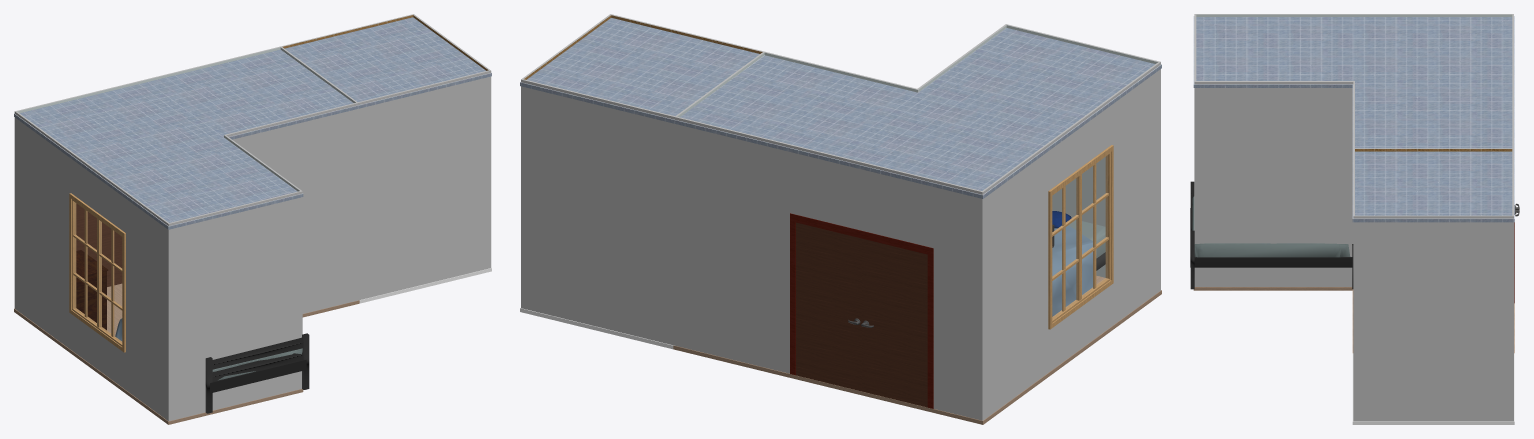
Rendered from ProcTHOR-Train-150.glb.
3 views of the same model, side by side, from view 1: azimuth 30°, elevation 25°; view 2: azimuth 150°, elevation 25°; view 3: azimuth 270°, elevation 25° (orthographic). The views are drawn at different scales.
Visible parts, largest first — view 1: Ceiling#room|2|c, WallInside#wall|exterior|0.00|4.26|2.13|4.26, WallInside#wall|exterior|6.39|2.13|6.39|6.39, WallInside#wall|exterior|4.26|6.39|6.39|6.39, WallInside#wall|exterior|2.13|4.26|4.26|4.26, Ceiling#room|3|c, Bed_19, Window_Fixed_60x72, Floor#room|2|f, Doorway_Door_1a, Dresser_318_2, WallInside#wall|2|2.13|2.13|6.39|2.13 (+1 smaller); view 2: WallInside#wall|exterior|2.13|2.13|6.39|2.13, Ceiling#room|2|c, WallInside#wall|exterior|0.00|2.13|2.13|2.13, WallInside#wall|exterior|6.39|2.13|6.39|6.39, Ceiling#room|3|c, Doorway_Door_1b, Doorway_Door_1a, Window_Fixed_60x72, Doorway_Double_1, Bed_19, WallInside#wall|2|4.26|6.39|6.39|6.39, Floor#room|2|f (+1 smaller); view 3: WallInside#wall|exterior|0.00|2.13|0.00|4.26, Ceiling#room|2|c, WallInside#wall|exterior|4.26|4.26|4.26|6.39, Ceiling#room|3|c, Bed_19, WallInside#wall|2|6.39|2.13|6.39|6.39, Floor#room|3|f, Floor#room|2|f, WallInside#wall|3|2.13|2.13|2.13|4.26, WallInside#wall|exterior|6.39|2.13|6.39|6.39.
Boxes of the visible parts, x1=… form: Ceiling#room|2|c: x1=14, y1=49, x2=359, y2=229; WallInside#wall|exterior|0.00|4.26|2.13|4.26: x1=357, y1=70, x2=490, y2=300; WallInside#wall|exterior|6.39|2.13|6.39|6.39: x1=14, y1=111, x2=168, y2=420; WallInside#wall|exterior|4.26|6.39|6.39|6.39: x1=168, y1=191, x2=302, y2=421; WallInside#wall|exterior|2.13|4.26|4.26|4.26: x1=225, y1=103, x2=358, y2=313; Ceiling#room|3|c: x1=285, y1=17, x2=491, y2=108; Bed_19: x1=115, y1=318, x2=309, y2=413; Window_Fixed_60x72: x1=69, y1=193, x2=125, y2=352; Floor#room|2|f: x1=14, y1=283, x2=359, y2=424; Doorway_Door_1a: x1=76, y1=203, x2=119, y2=286; Dresser_318_2: x1=76, y1=250, x2=108, y2=330; WallInside#wall|2|2.13|2.13|6.39|2.13: x1=16, y1=46, x2=281, y2=113; WallInside#wall|exterior|2.13|2.13|6.39|2.13: x1=674, y1=117, x2=982, y2=420; Ceiling#room|2|c: x1=673, y1=28, x2=1161, y2=198; WallInside#wall|exterior|0.00|2.13|2.13|2.13: x1=521, y1=79, x2=675, y2=345; WallInside#wall|exterior|6.39|2.13|6.39|6.39: x1=983, y1=62, x2=1160, y2=420; Ceiling#room|3|c: x1=520, y1=18, x2=764, y2=123; Doorway_Door_1b: x1=796, y1=222, x2=861, y2=391; Doorway_Door_1a: x1=862, y1=238, x2=927, y2=407; Window_Fixed_60x72: x1=1048, y1=145, x2=1113, y2=329; Doorway_Double_1: x1=790, y1=213, x2=933, y2=408; Bed_19: x1=1052, y1=220, x2=1105, y2=316; WallInside#wall|2|4.26|6.39|6.39|6.39: x1=1005, y1=24, x2=1158, y2=277; Floor#room|2|f: x1=673, y1=275, x2=1161, y2=424; WallInside#wall|exterior|0.00|2.13|0.00|4.26: x1=1353, y1=216, x2=1513, y2=421; Ceiling#room|2|c: x1=1193, y1=16, x2=1514, y2=151; WallInside#wall|exterior|4.26|4.26|4.26|6.39: x1=1194, y1=81, x2=1353, y2=286; Ceiling#room|3|c: x1=1352, y1=151, x2=1514, y2=222; Bed_19: x1=1190, y1=181, x2=1353, y2=289; WallInside#wall|2|6.39|2.13|6.39|6.39: x1=1195, y1=14, x2=1513, y2=16; Floor#room|3|f: x1=1352, y1=353, x2=1514, y2=424; Floor#room|2|f: x1=1193, y1=287, x2=1514, y2=353; WallInside#wall|3|2.13|2.13|2.13|4.26: x1=1355, y1=148, x2=1512, y2=151; WallInside#wall|exterior|6.39|2.13|6.39|6.39: x1=1196, y1=14, x2=1512, y2=14.
Size of the model in its own units: 6.45 by 3.08 by 4.41.
82 materials, 30 textured.
